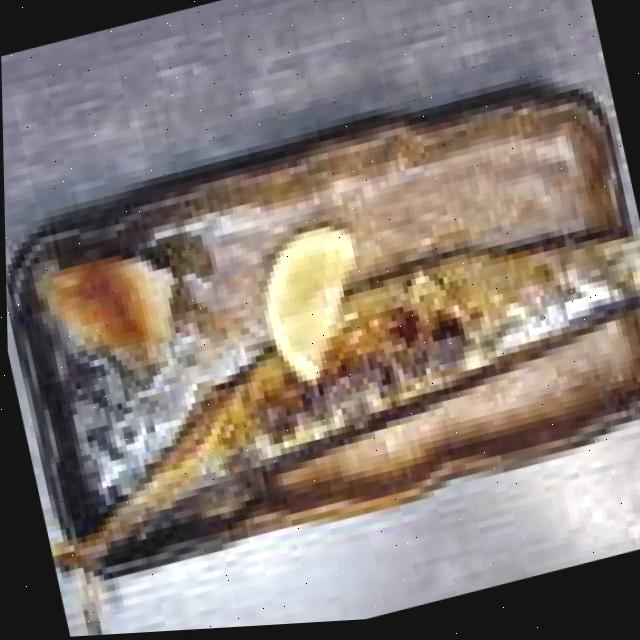熟制海鲜: (2, 80, 640, 640)
